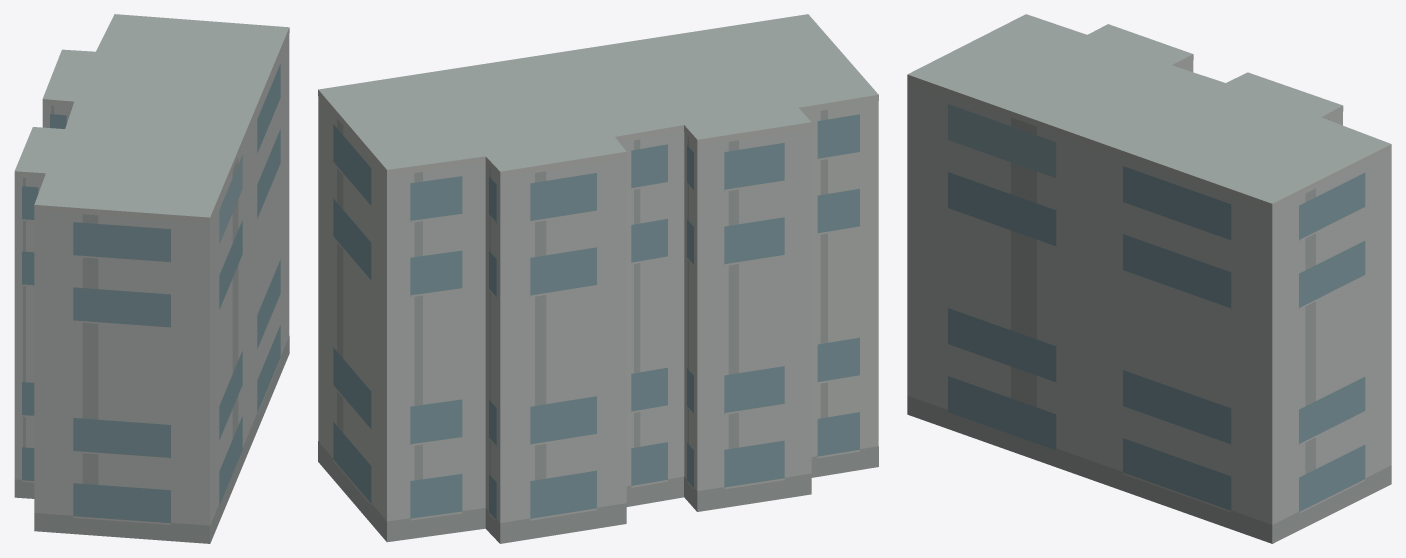
File: survey-upis-32931638.glb
3 renders of one model, left to right at view 1: azimuth 30°, elevation 25°; view 2: azimuth 150°, elevation 25°; view 3: azimuth 270°, elevation 25°, orthographic. The views are drawn at different scales.
Visible parts, largest first — view 1: survey-upis-32931638.tmp; view 2: survey-upis-32931638.tmp; view 3: survey-upis-32931638.tmp.
Part boxes in pixels (left/top/right/bottom): survey-upis-32931638.tmp: left=14, top=14, right=289, bottom=543; survey-upis-32931638.tmp: left=318, top=14, right=878, bottom=543; survey-upis-32931638.tmp: left=907, top=14, right=1391, bottom=543.
Bounding box in the file's own units: 15.99 × 13.35 × 17.24.
